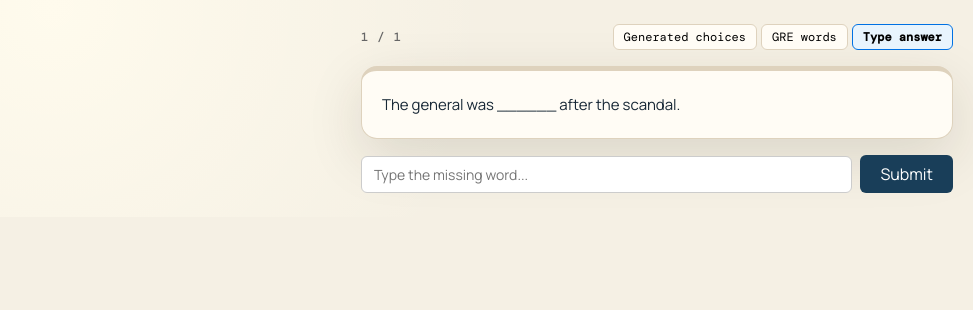
Test: FillInBlank - typed › accepts inflected stem as correct
Type "abased" into the field at [607, 174], box [361,156,852,192]
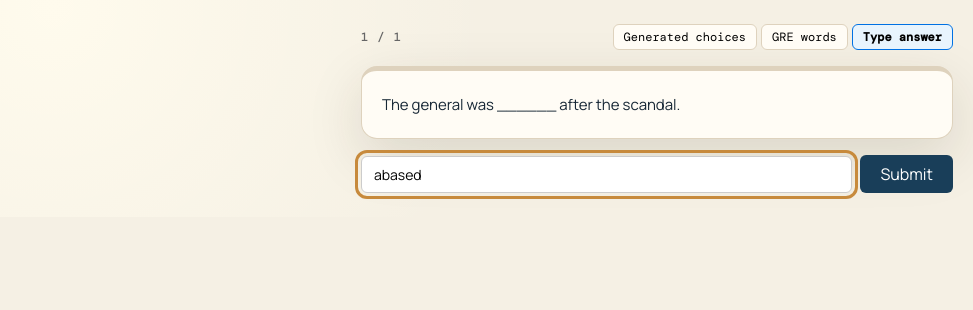
Click the button "Submit" at [907, 174], box [860,155,953,193]
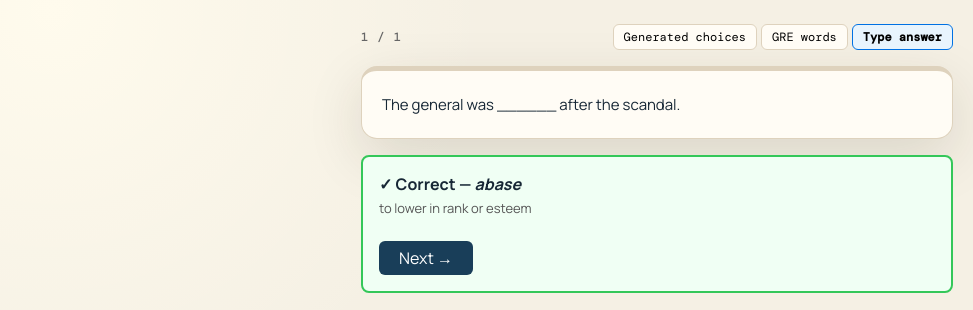
expect the text "✓ Correct — abase" is shown: met, box [379,173,521,195]
